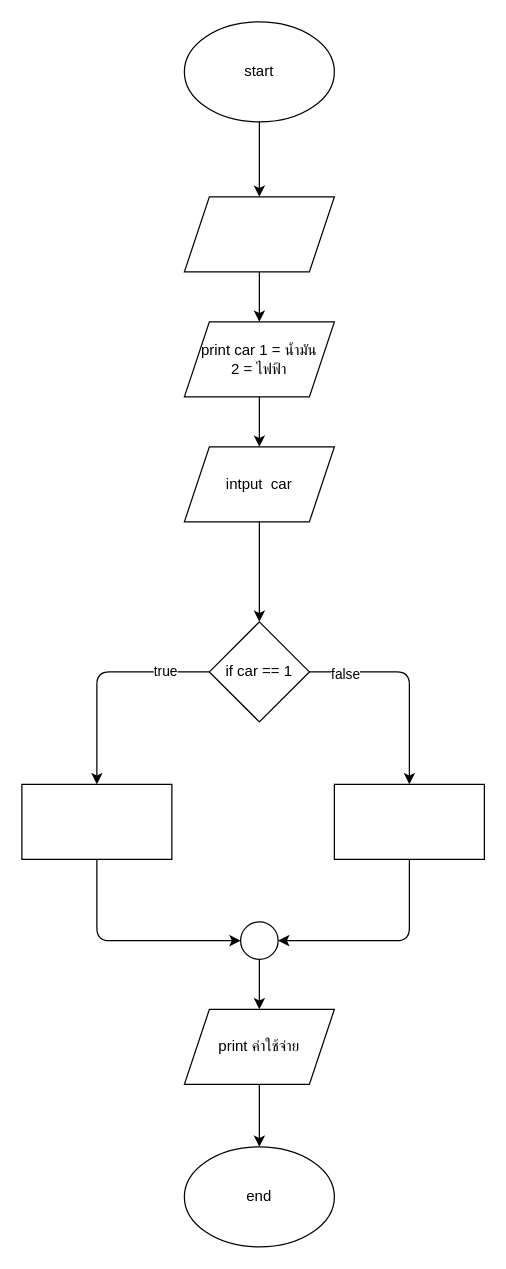
The diagram is 506 pixels wide and 1269 high, and some of its shapes have lost their labels. The centre of each missing label's shape, as x and y in pixels:
"int put kilo" belongs at (x=258, y=234).
"total kilo * 1" belongs at (x=408, y=821).
"total kilo * 4" belongs at (x=96, y=821).
